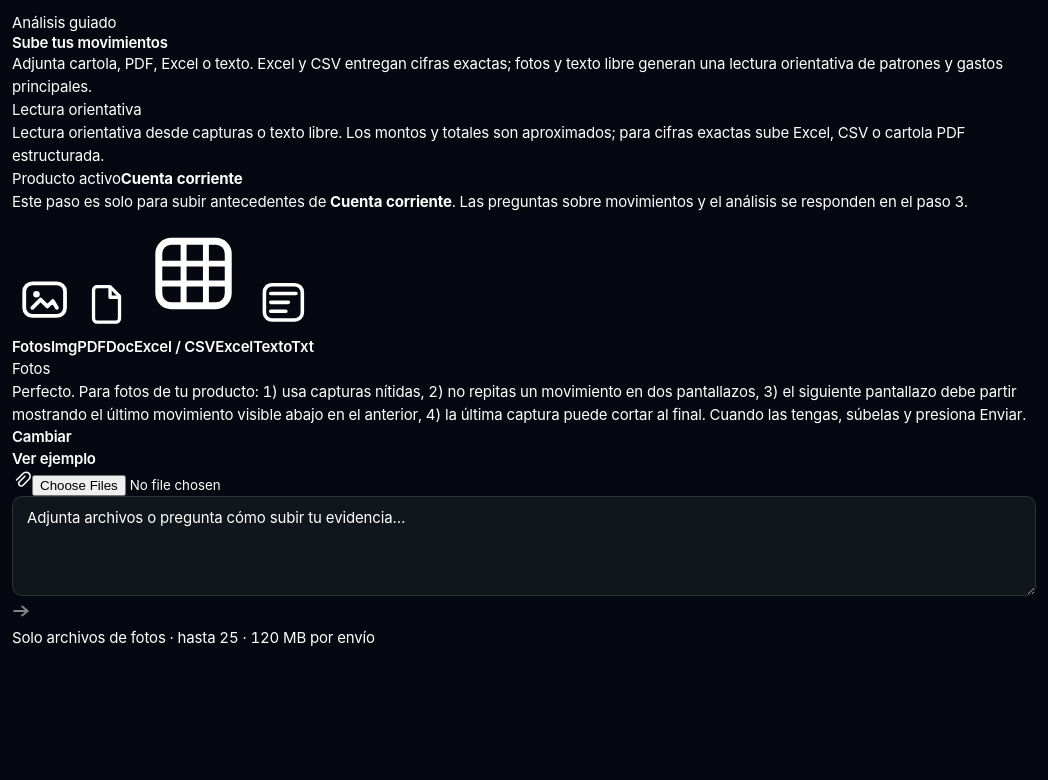
Test case: TxEvidenceStep › shows photo format examples below guidance when photos format is selected
The width and height of the screenshot is (1048, 780).
What coordinates should you click on to do the following:
click the button "Ver ejemplo"
I would click on:
 (54, 459)
Its box is x1=12 y1=449 x2=96 y2=468.
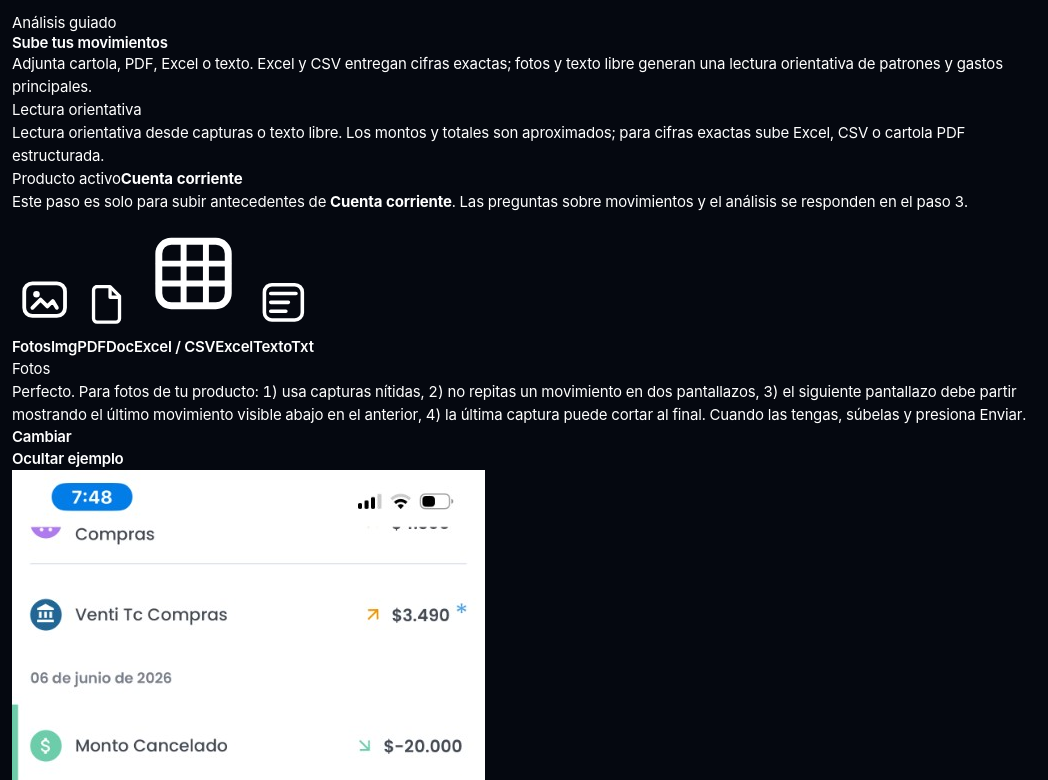
Result: the number of list items is 4
